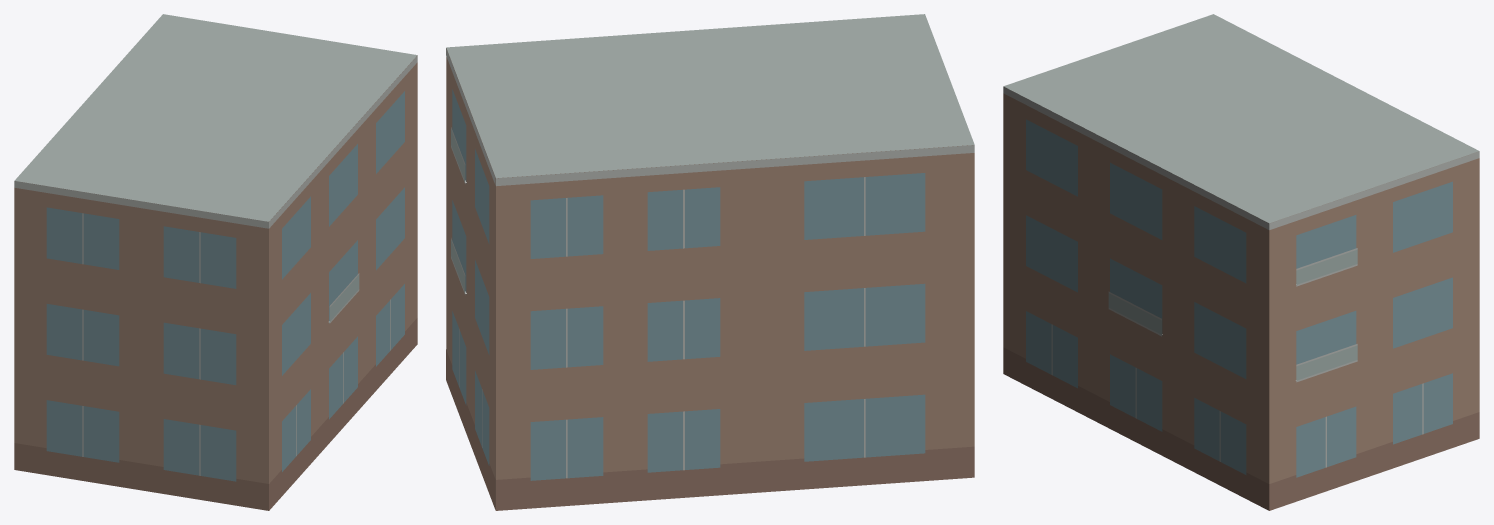
File: survey-upis-32834866.glb
The picture shows the model from 3 angles, left to right: view 1: azimuth 30°, elevation 25°; view 2: azimuth 150°, elevation 25°; view 3: azimuth 270°, elevation 25°; orthographic projection. The views are drawn at different scales.
Parts seen in each view (by area): view 1: survey-upis-32834866.tmp; view 2: survey-upis-32834866.tmp; view 3: survey-upis-32834866.tmp.
Boxes of the visible parts, x1,y1,x2,y2 form: survey-upis-32834866.tmp: (14, 14, 417, 510); survey-upis-32834866.tmp: (446, 14, 974, 510); survey-upis-32834866.tmp: (1003, 14, 1479, 510).
Size of the model in its own units: 15.94 by 10.2 by 15.32.
